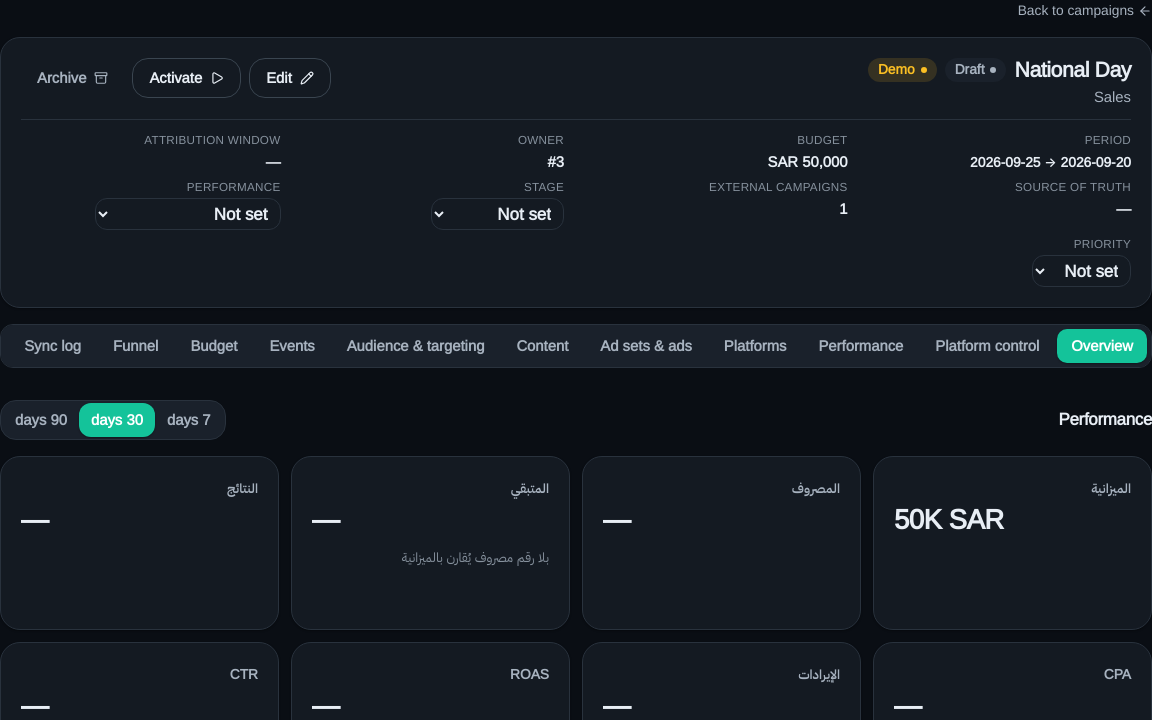
Test: CampaignDetailPage › celebrates a launch the server confirmed
This screenshot has width=1152, height=720.
Expected: the heading "National Day" is shown, [1014,58,1131,82]
Click the button "Activate": [187, 78] box [132,58,241,98]
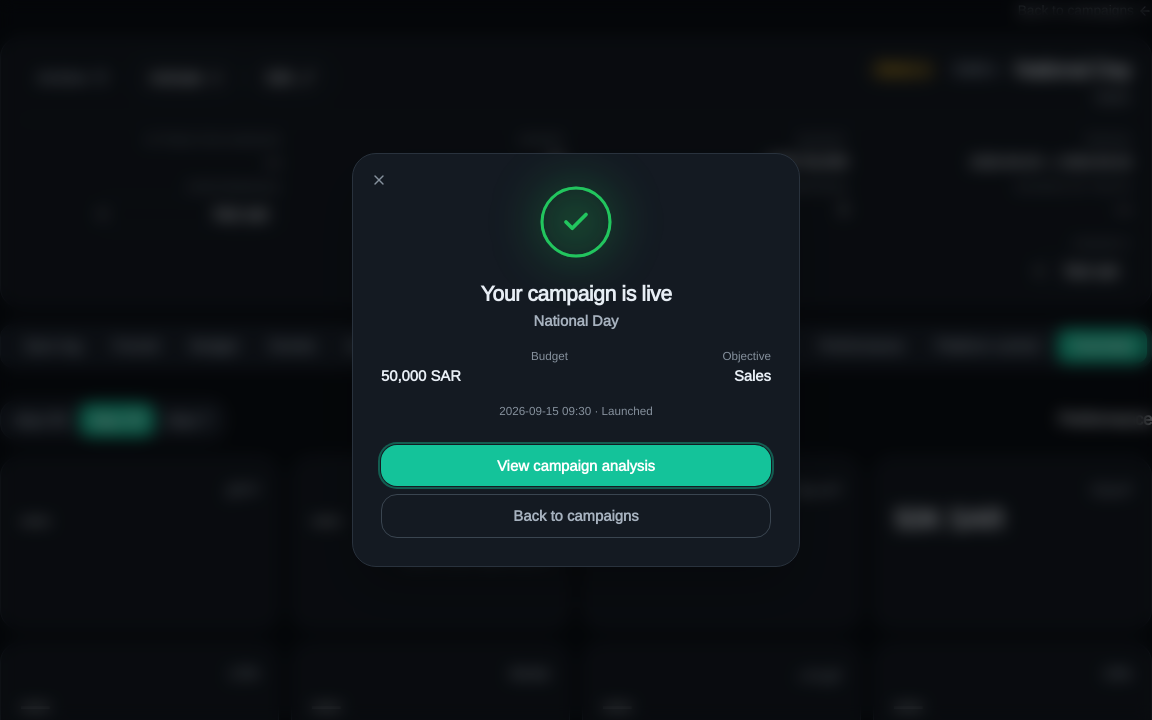
Expected: the dialog with test id "launch-success" is shown, [352,153,800,567]
Expected: the element with test id "launch-success-at" shows "2026-09-15", [499,404,591,418]
